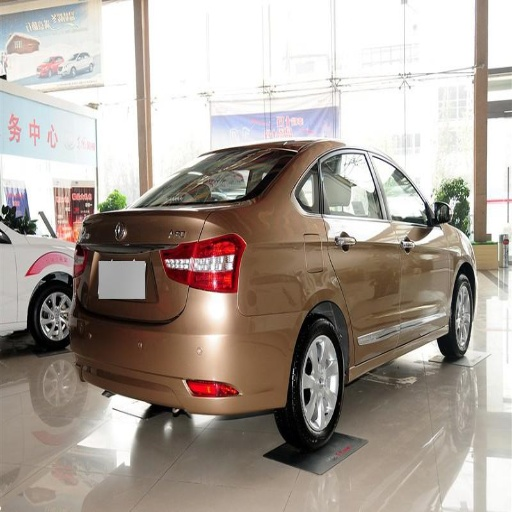back_bumper: (75, 289, 300, 418)
back_right_door: (318, 148, 403, 360)
tailgate: (81, 206, 211, 321)
trunk: (84, 263, 154, 323)
